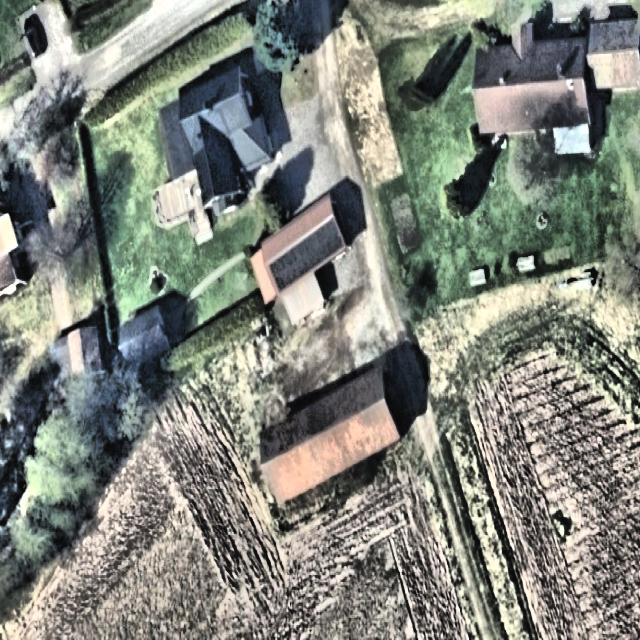roof_pv: (266, 242, 300, 296), (320, 212, 346, 266), (299, 229, 323, 277)
